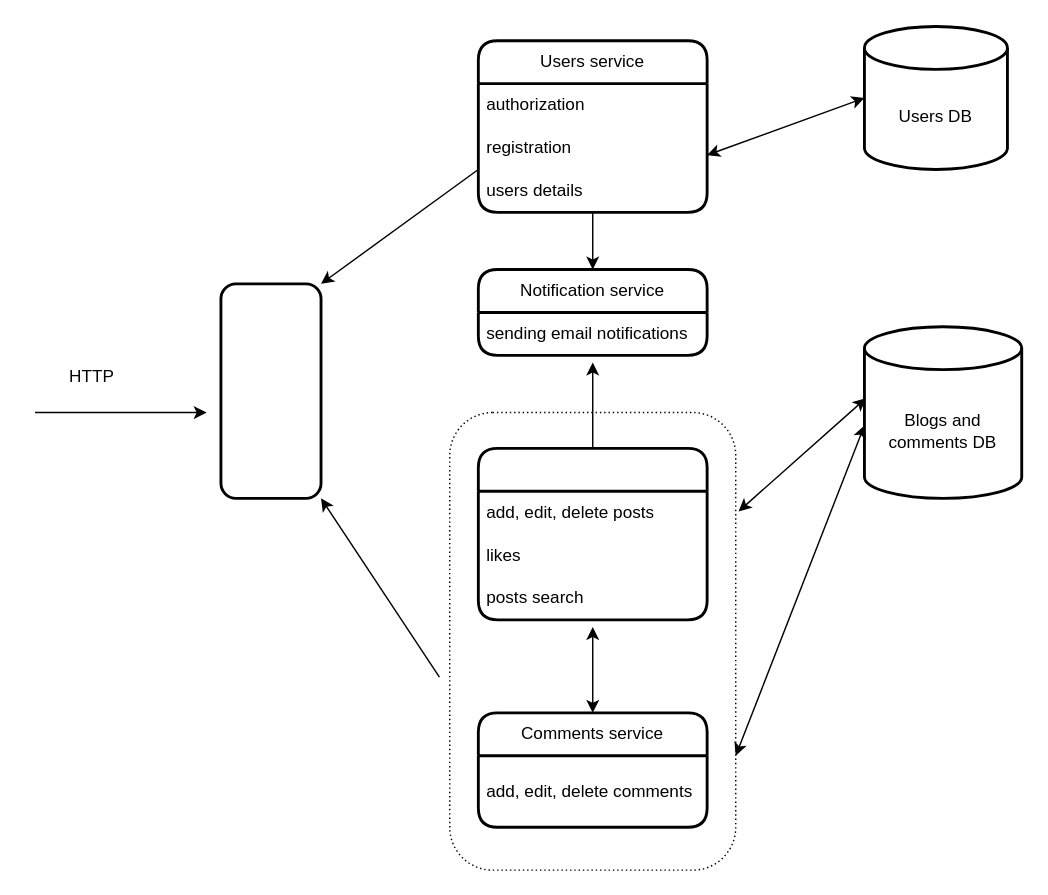
Image size: 1048x895. Some labels were removed from this diagram. Here are the shapes that lost their labels. From the top down, the box of each, then its label:
(219, 282, 322, 499): BFF
(476, 446, 708, 621): Posts service
